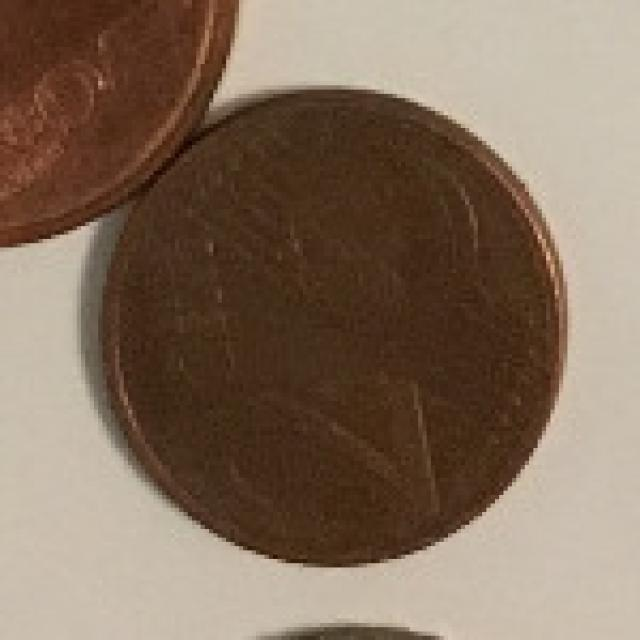2c: (89, 77, 576, 576)
